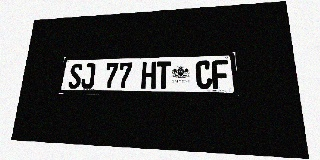7: (103, 63, 119, 89), (117, 62, 132, 89)
C: (195, 60, 212, 89)
F: (211, 60, 229, 89)
H: (141, 62, 156, 89)
J: (80, 63, 96, 89)
S: (68, 63, 83, 89)
T: (156, 61, 171, 89)
